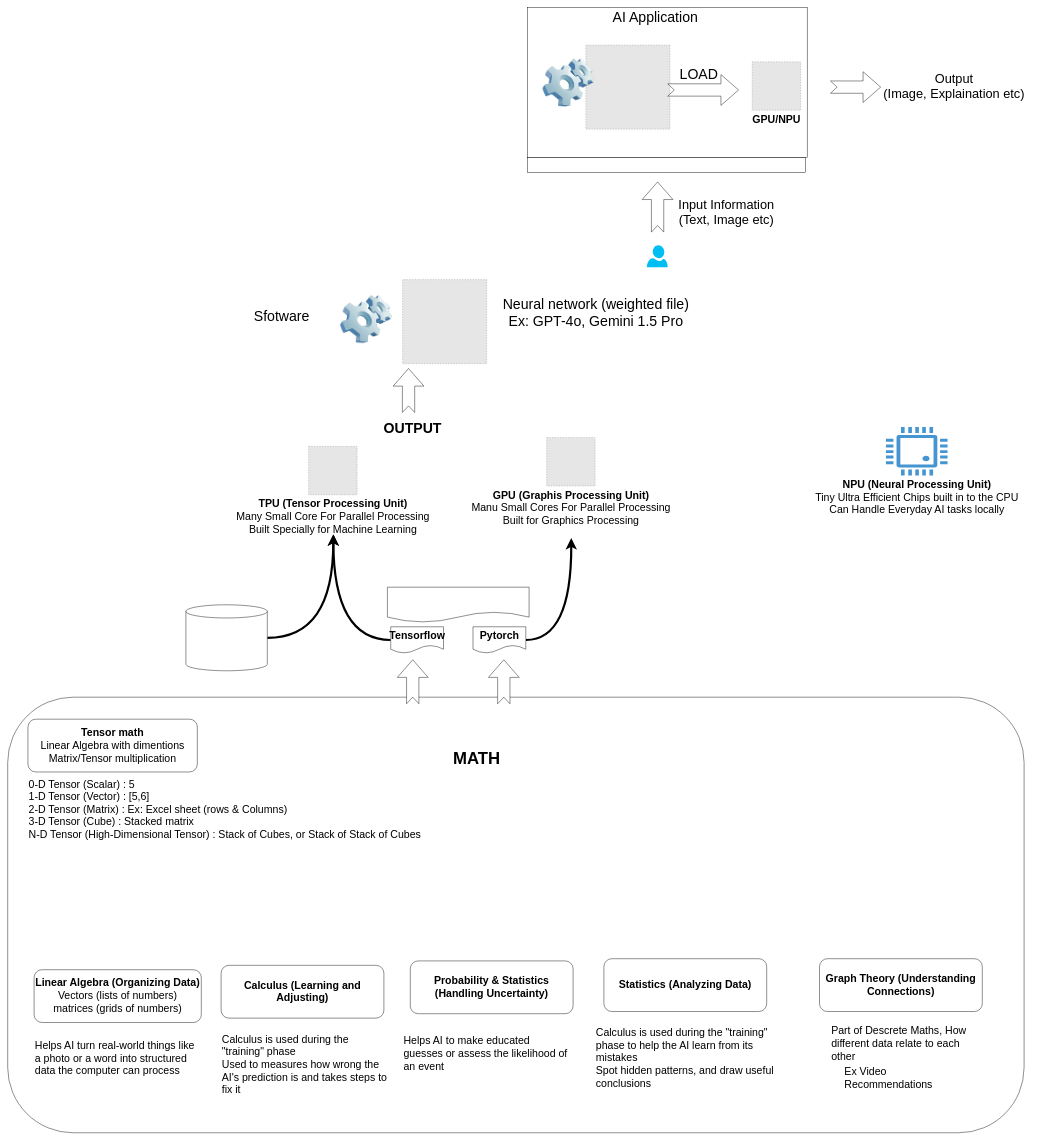
Some shapes in this 1038 by 1140 pixel diagram are drawn without their labels. Grey dashed boxes stand in for pictures. The shapes that lost their labels are listed below. From the top down, each one's centre as x and y in pixels, then its label:
the point at 666,164: FRONT END
the point at 458,604: </code>
the point at 226,637: Training Data
